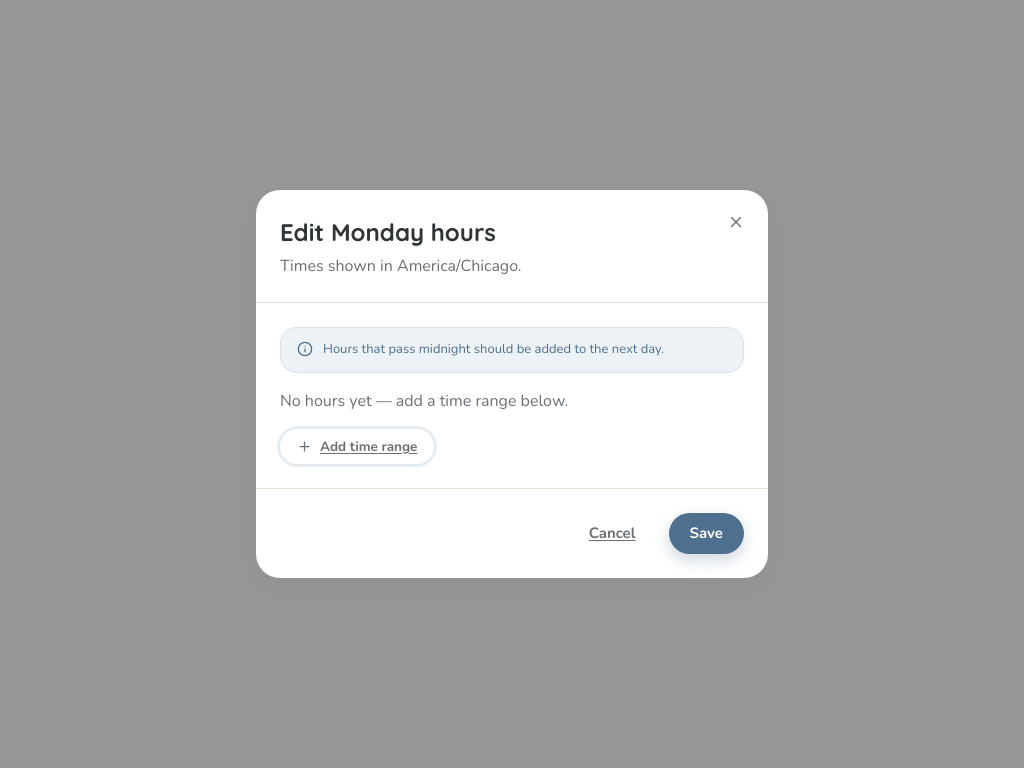
Test case: DayHoursModal — backend 422 keeps the modal open with an in-modal error alert › a mocked 422 from replace keeps the modal open and shows the backend message
Click the button "Add time range": (357,446) [280, 429, 434, 464]
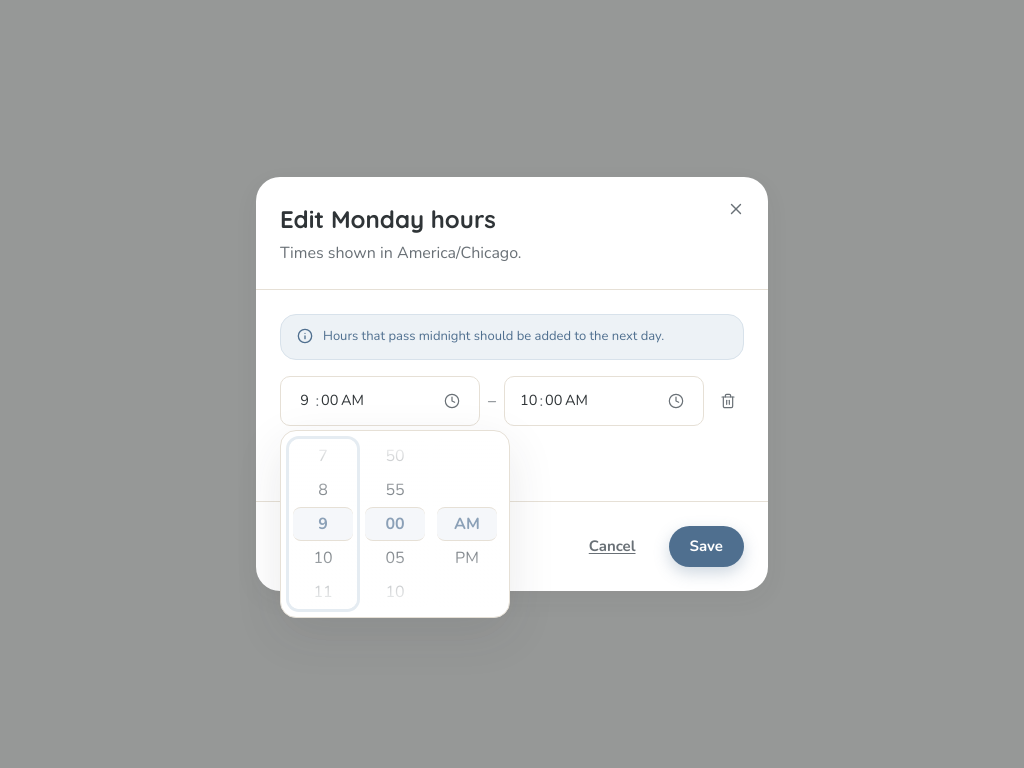
Click the button "Save": (706,546) [668, 526, 744, 567]
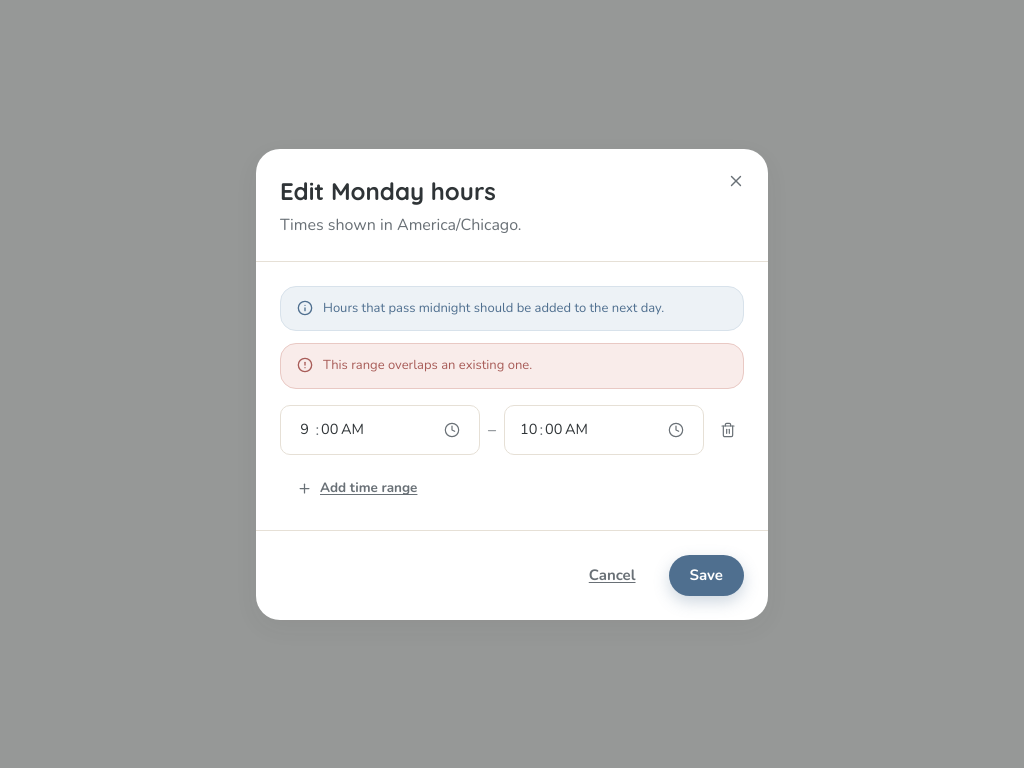
Now the text "This range overlaps an existing one." is shown, box [323, 356, 532, 374]
